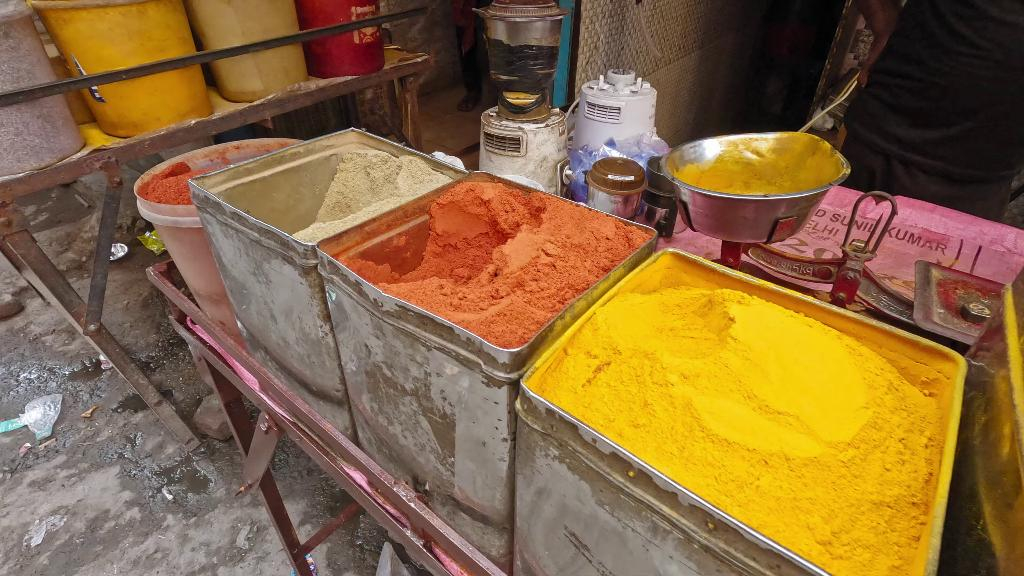garbage: (15, 395, 70, 439)
